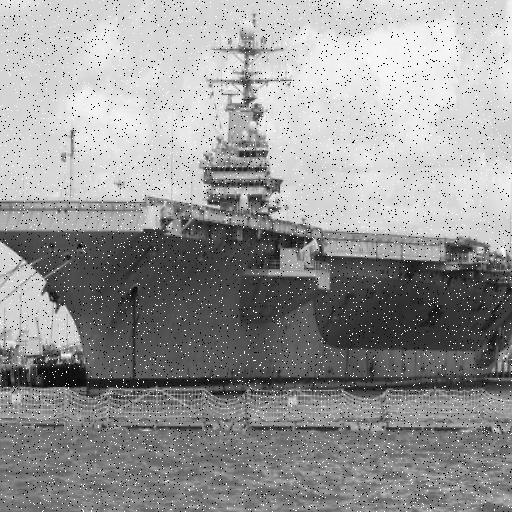Portanaves: (1, 3, 512, 399)
